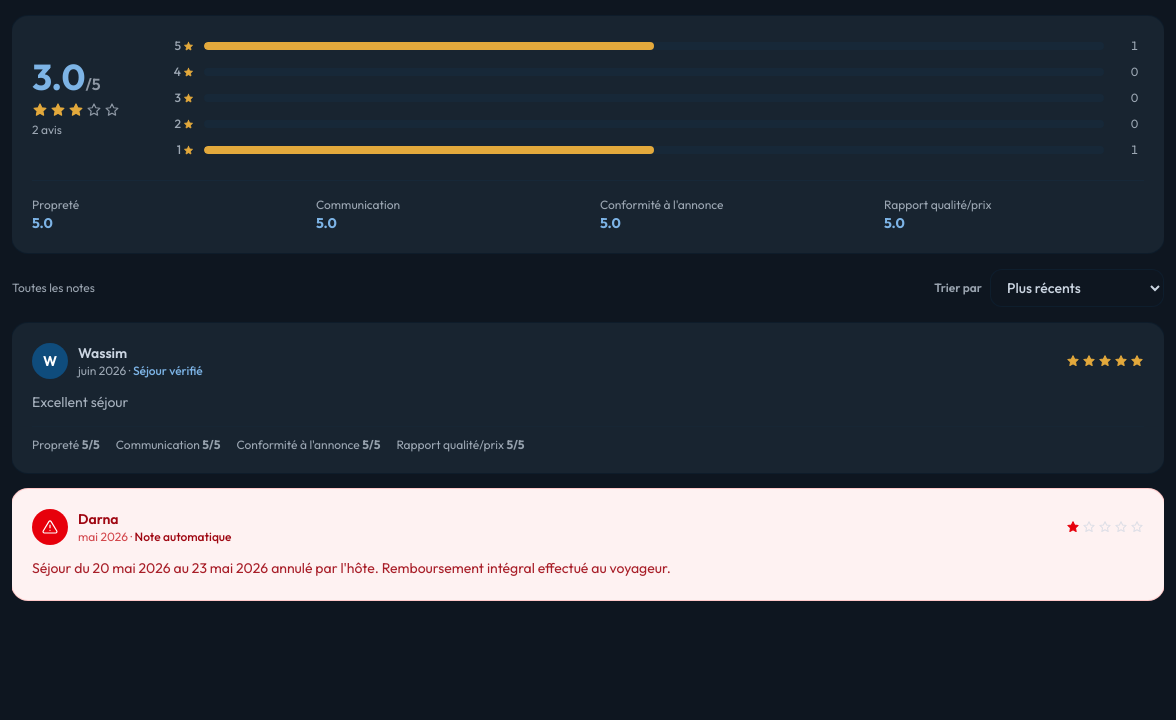
ReviewsList — entrée système « annulé par l'hôte » (§AHC7) › apparaît sous le filtre « 1 étoile » (elle compte comme une note de 1/5)
Click the button named "1 étoile". click: (648, 150)
box: [152,140,1144,160]
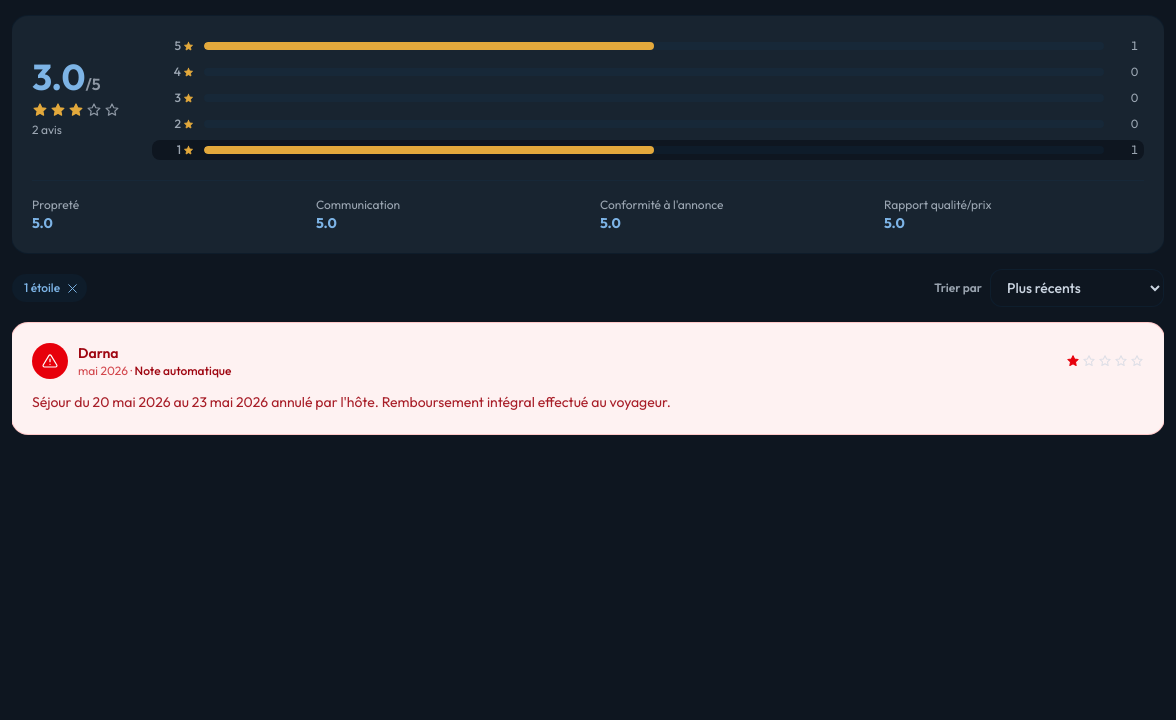
Expected: the text "Darna" is shown, [78,344,119,362]
Result: the text "Excellent séjour" is gone
